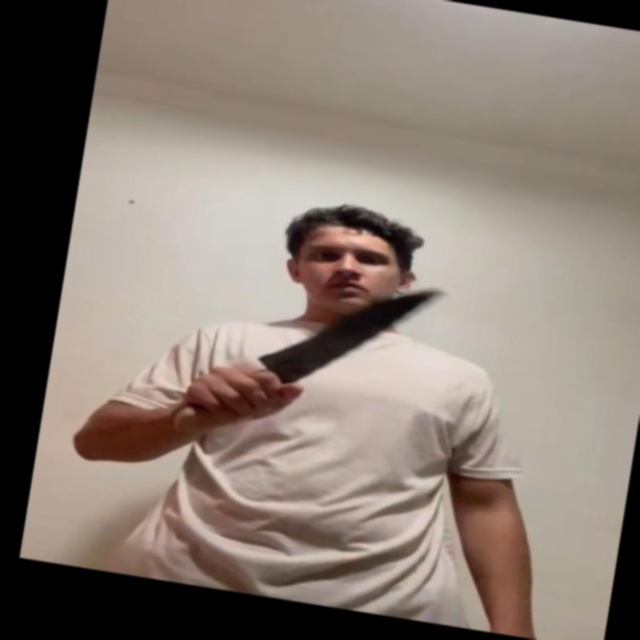Sharp-Object: (255, 263, 451, 401)
